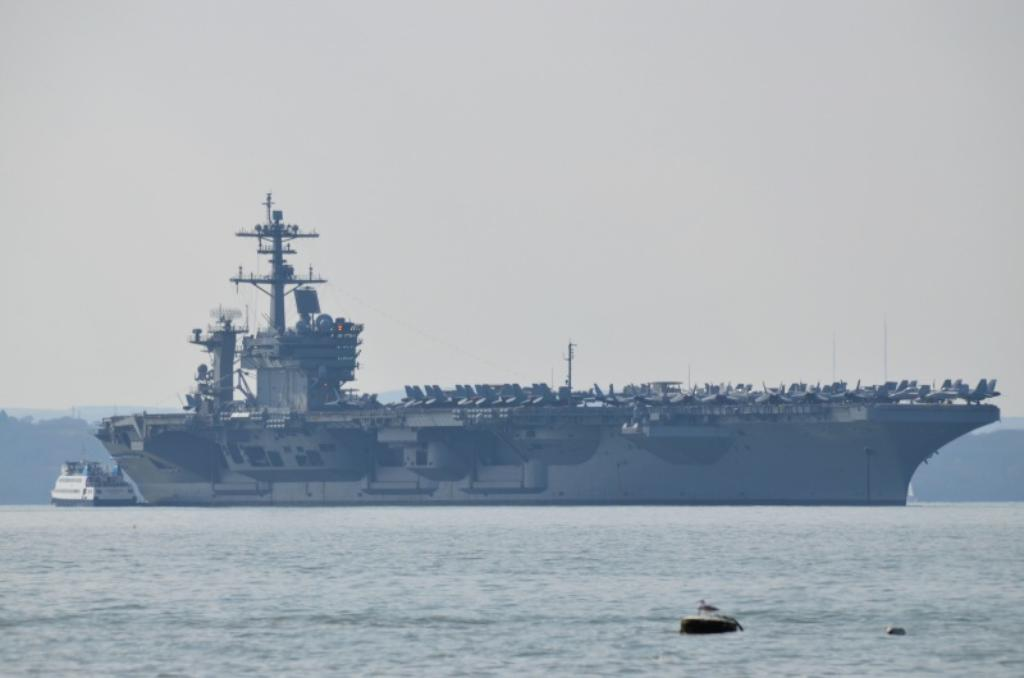Warship: (92, 197, 1004, 513)
